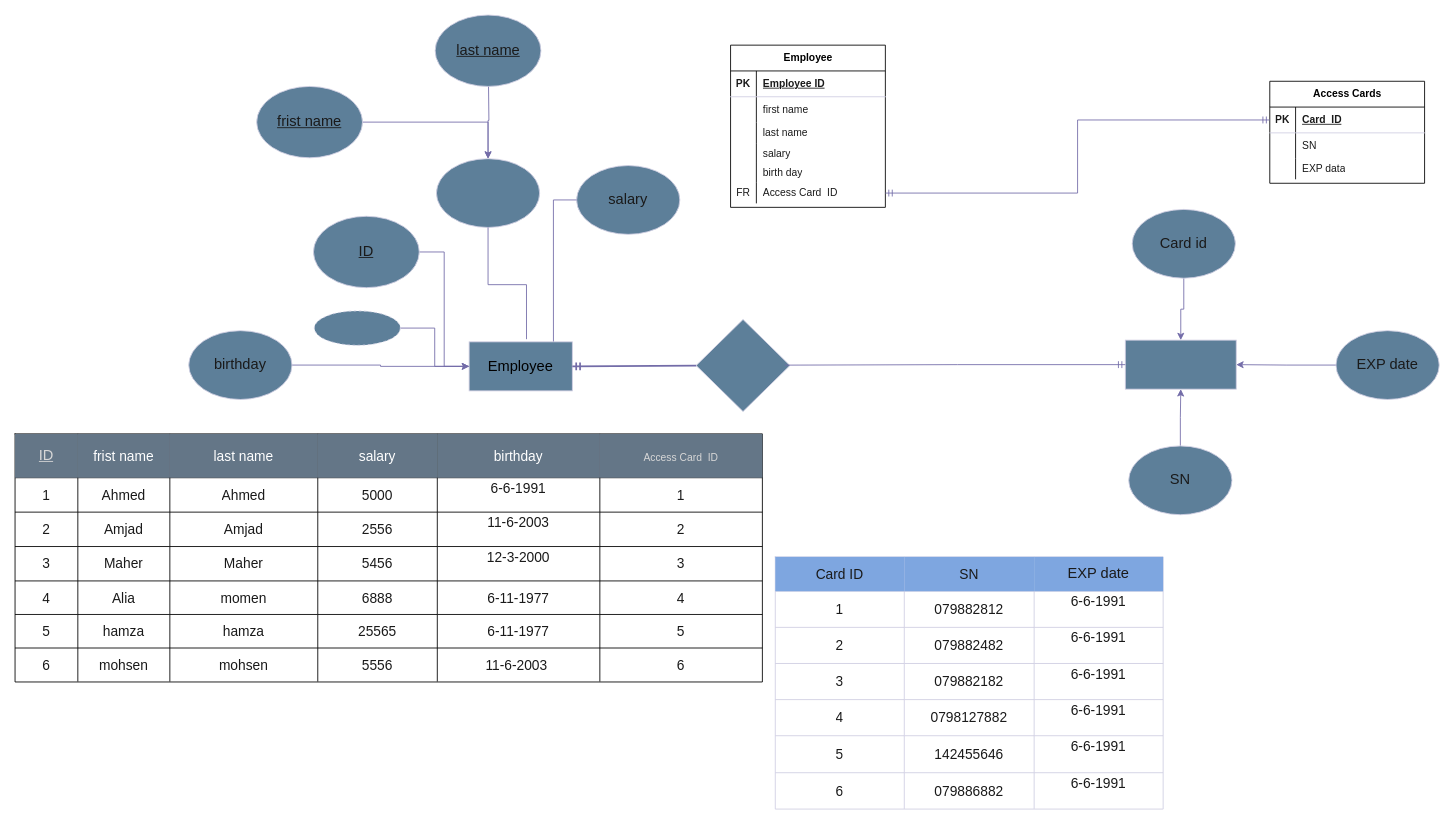
The diagram is 1454 pixels wide and 825 high, and some of its shapes have lost their labels. Here are the shapes that lost their labels. From the top down, the centre of each, then its label:
the point at 488,192: name
the point at 356,327: age
the point at 742,365: has
the point at 1180,364: AccessCard
